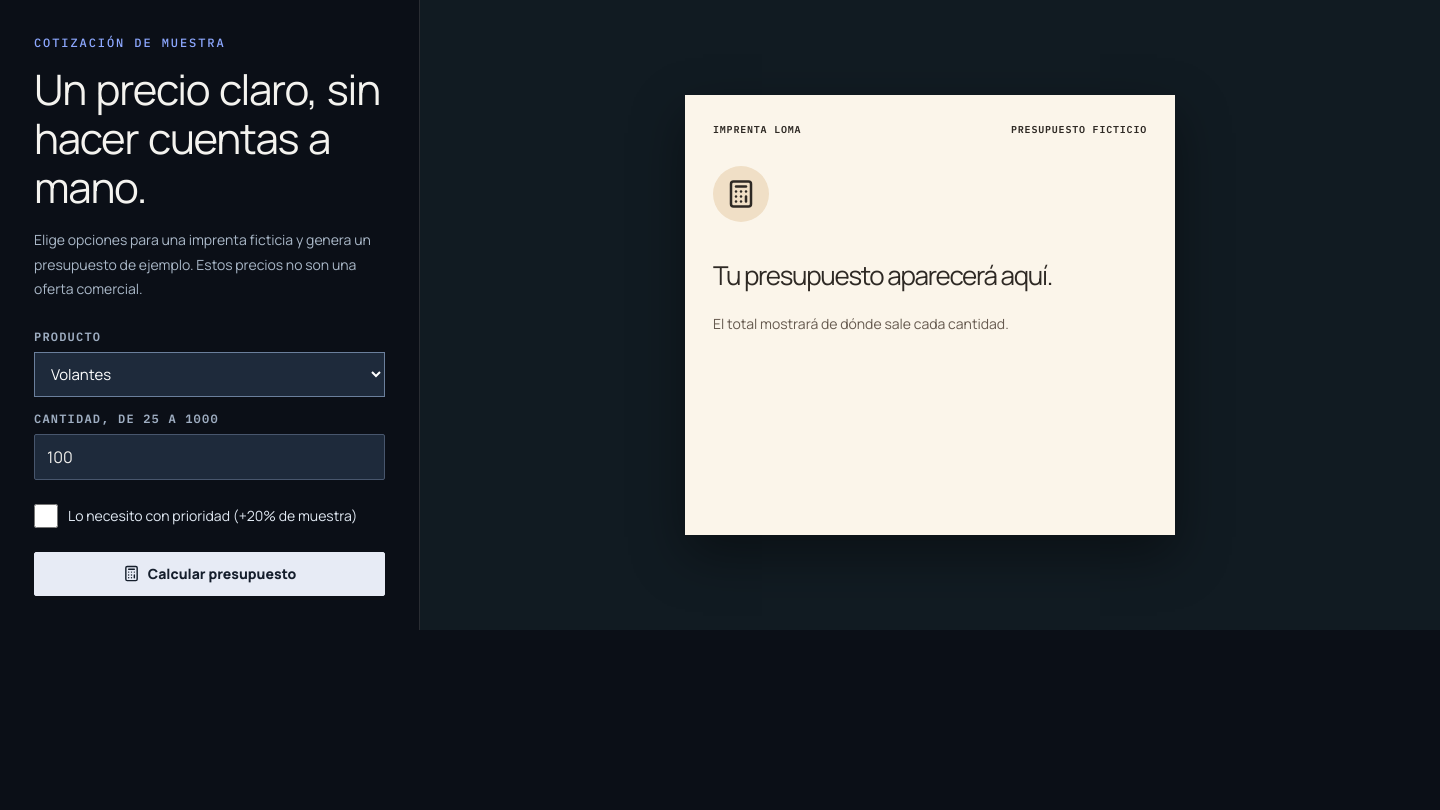
Test case: demos para negocios locales › muestra un presupuesto desglosado sin enviar datos
The width and height of the screenshot is (1440, 810).
Step 1. Click the button "Calcular presupuesto" → (210, 574), box left=34, top=552, right=385, bottom=596
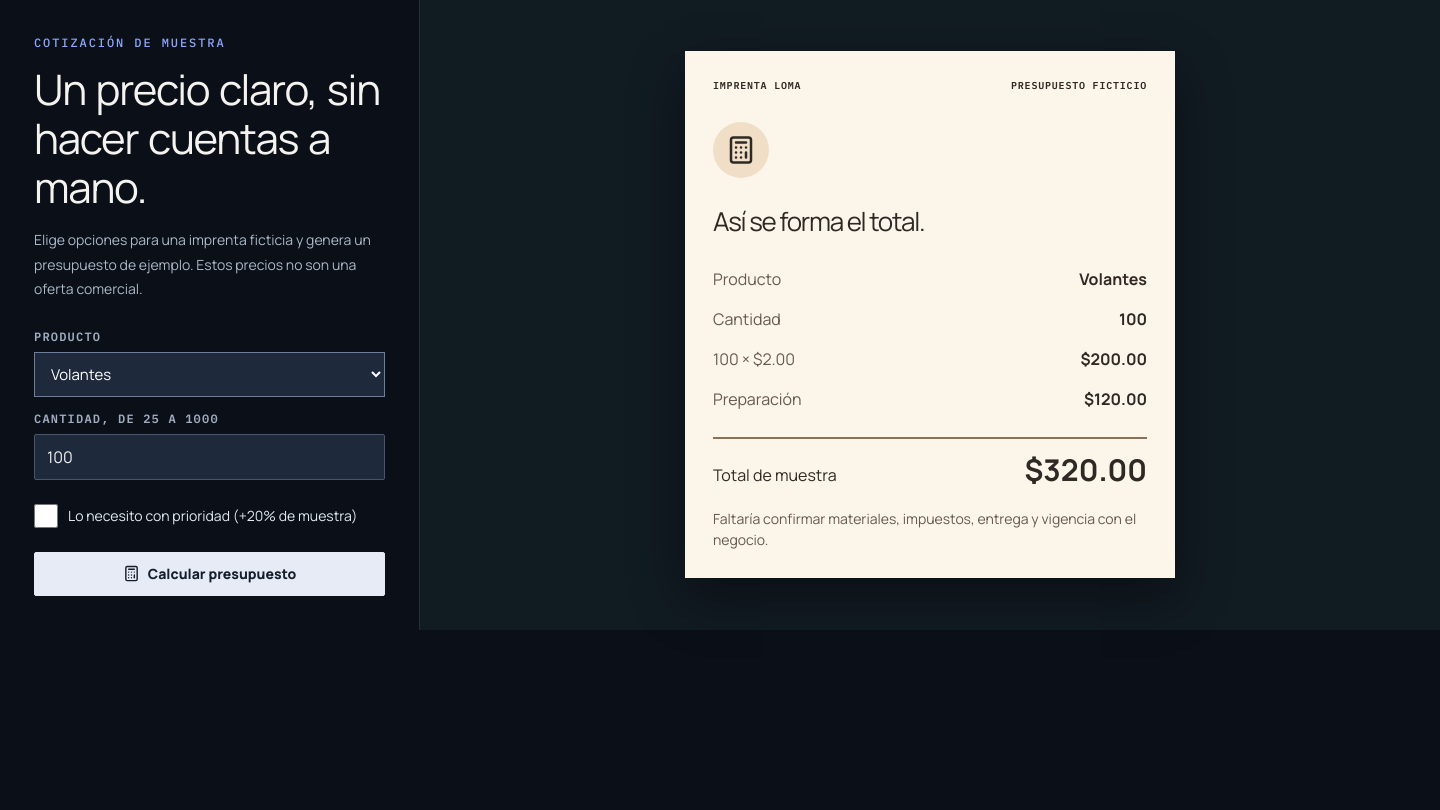
Now the text "Total de muestra" is shown, box left=713, top=463, right=837, bottom=487
Now the text "$200.00" is shown, box left=1080, top=347, right=1147, bottom=371
Now the text "$320.00" is shown, box left=1024, top=447, right=1147, bottom=492
